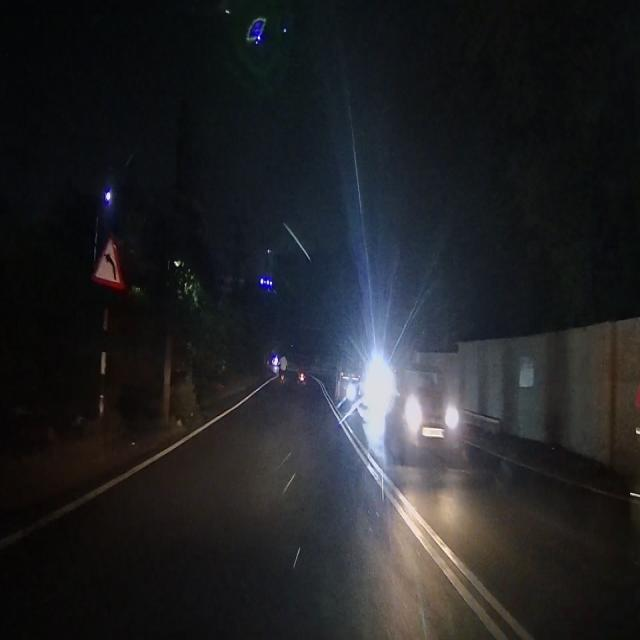left-hand-curve: (95, 234, 124, 291)
